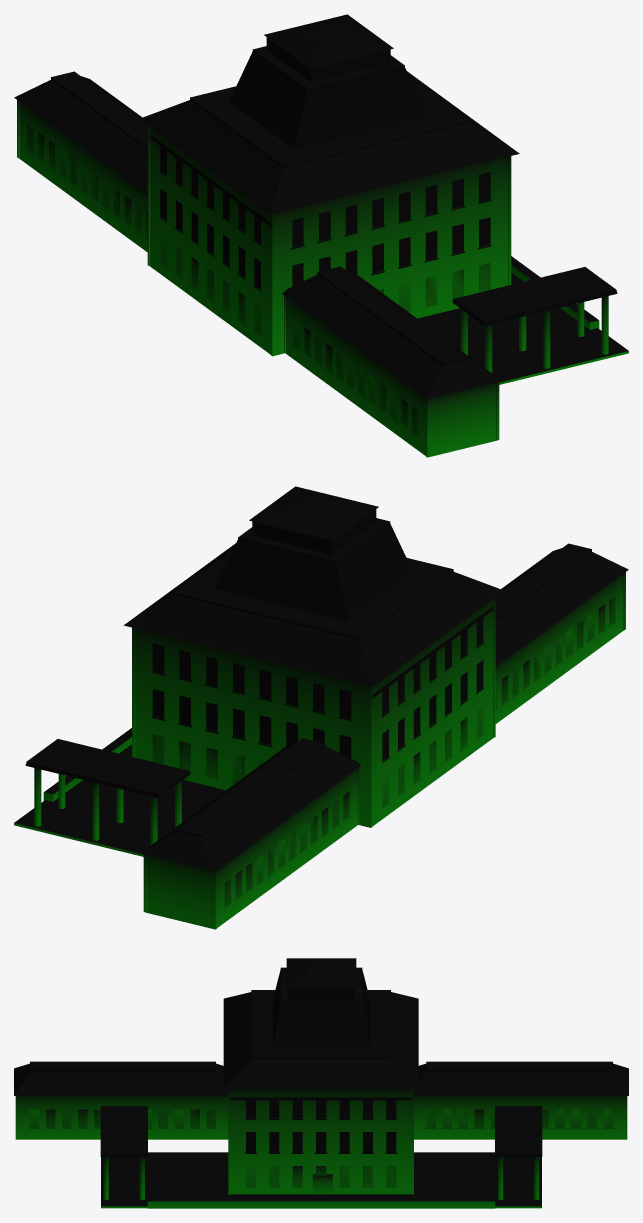
File: s_gov1.glb
3 views of the same model, one above another, from view 1: azimuth 30°, elevation 25°; view 2: azimuth 150°, elevation 25°; view 3: azimuth 270°, elevation 25° (orthographic). The views are drawn at different scales.
Visible parts, largest first — view 1: lod0; view 2: lod0; view 3: lod0.
Part boxes in pixels (x1,y1,x2,y2): lod0: (14,14,628,457); lod0: (14,486,628,929); lod0: (14,958,628,1208).
Size of what is drawn, in the model's own units: 23.07 by 19.69 by 59.21.
